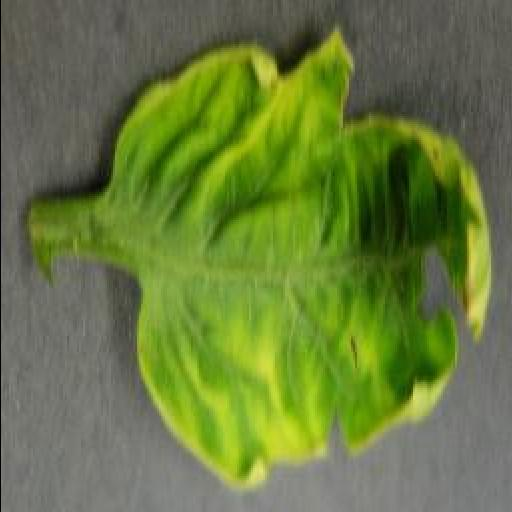disease_tomato: (106, 22, 490, 491)
